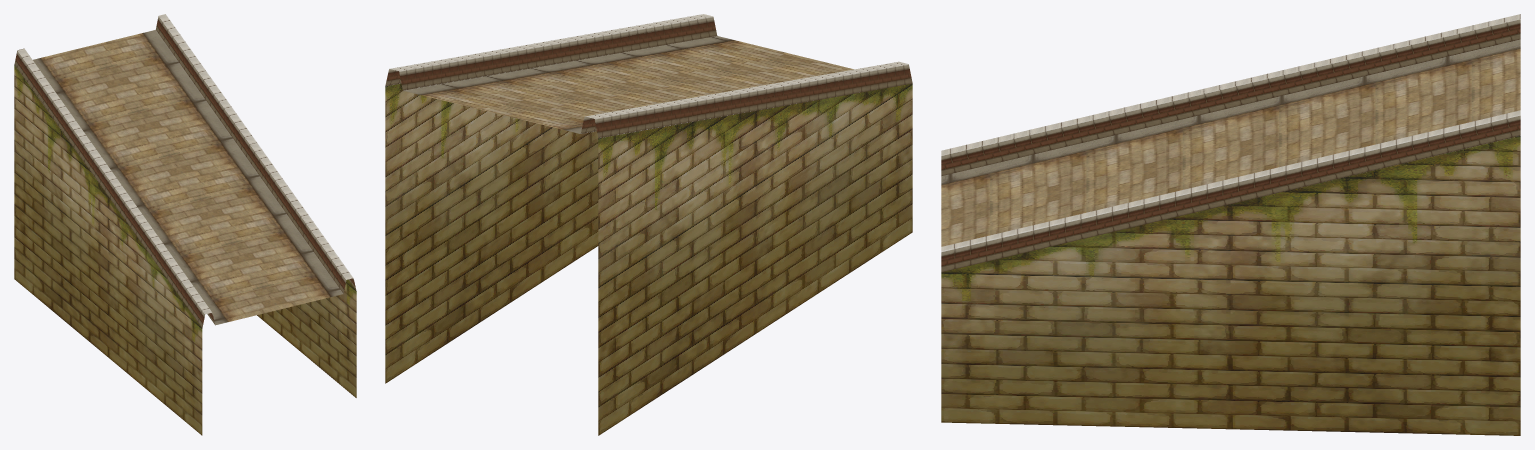
File: obj_masaslope02.glb
3 renders of one model, left to right at view 1: azimuth 30°, elevation 25°; view 2: azimuth 150°, elevation 25°; view 3: azimuth 270°, elevation 25°, orthographic. The views are drawn at different scales.
Parts seen in each view (by area): view 1: part_0; view 2: part_0; view 3: part_0.
Boxes of the visible parts, x1=… form: part_0: x1=14, y1=14, x2=356, y2=435; part_0: x1=385, y1=14, x2=912, y2=435; part_0: x1=941, y1=14, x2=1520, y2=435.
Size of the model in its own units: 13.53 by 17 by 28.
Materials: 3 (3 with a texture image).
